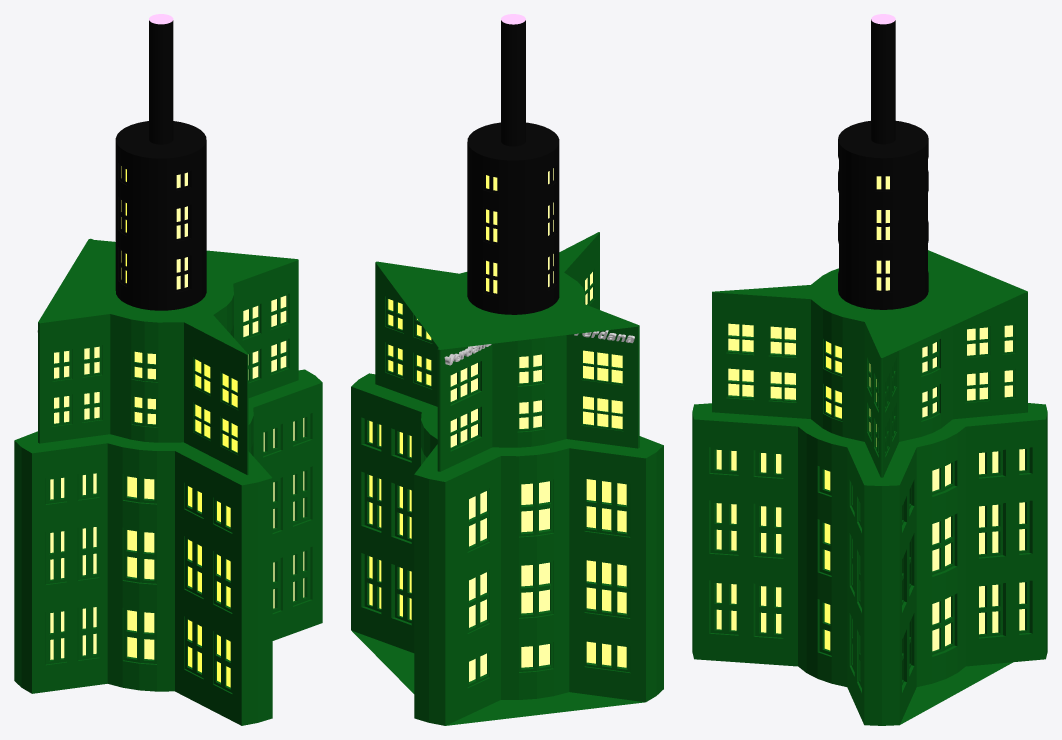
The model's file is verdana_hotel.fbx.
The picture shows the model from 3 angles, left to right: view 1: azimuth 30°, elevation 25°; view 2: azimuth 150°, elevation 25°; view 3: azimuth 270°, elevation 25°; orthographic projection.
Visible parts, largest first — view 1: Circle, Circle.001; view 2: Circle, Circle.001; view 3: Circle, Circle.001.
Boxes of the visible parts, <box> form: Circle: <box>14,238,322,725</box>; Circle.001: <box>115,14,206,310</box>; Circle: <box>351,232,663,725</box>; Circle.001: <box>467,14,559,314</box>; Circle: <box>692,250,1047,725</box>; Circle.001: <box>838,14,928,309</box>.
Bounding box in the file's own units: 447 × 922 × 470.
